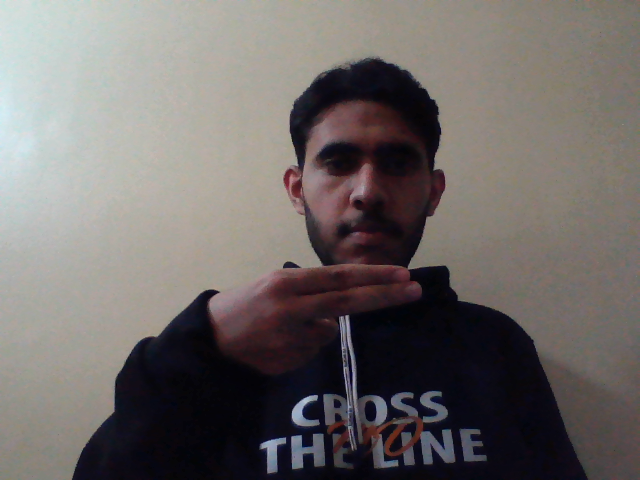H: (187, 259, 433, 391)
